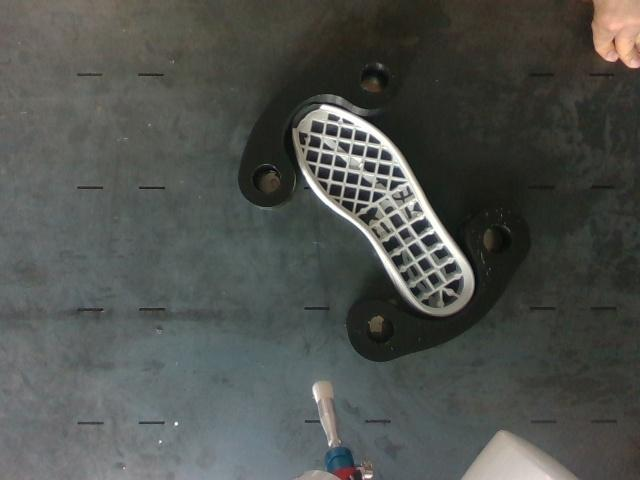shoes: (293, 105, 472, 315)
